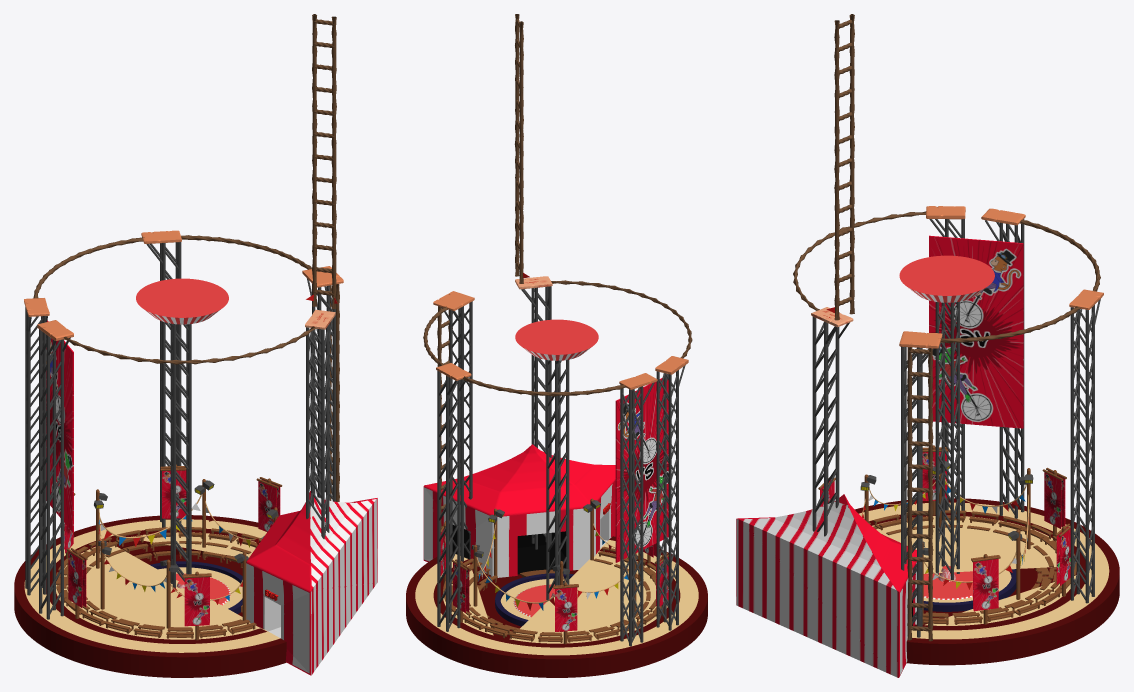
File: Nivel2.fbx
The picture shows the model from 3 angles, left to right: view 1: azimuth 30°, elevation 25°; view 2: azimuth 150°, elevation 25°; view 3: azimuth 270°, elevation 25°; orthographic projection. The views are drawn at different scales.
Visible parts, largest first — view 1: Suelo, CarpaLowPolly, Cylinder.027, Cylinder.022, Cylinder.029, Cuerda.001, Cylinder.025, Cylinder.026, Plane.001, Cylinder.024, Cylinder.023, FIla3 (+12 smaller); view 2: Suelo, CarpaLowPolly, Plane.001, Cylinder.025, Cylinder.027, Cylinder.024, Cylinder.022, Cylinder.023, Cylinder.026, Cuerda.001, Tarima, Cylinder.029 (+9 smaller); view 3: CarpaLowPolly, Suelo, Plane.001, Cylinder.024, Cylinder.022, Cylinder.029, Cuerda.008, Cuerda.001, Cylinder.026, Cylinder.023, Cylinder.025, Tarima (+10 smaller).
Boxes of the visible parts, bbox=[...] form: Suelo: bbox=[14, 515, 286, 677]; CarpaLowPolly: bbox=[246, 491, 377, 675]; Cylinder.027: bbox=[39, 329, 70, 619]; Cylinder.022: bbox=[170, 323, 191, 588]; Cylinder.029: bbox=[306, 319, 332, 539]; Cuerda.001: bbox=[312, 14, 336, 309]; Cylinder.025: bbox=[25, 307, 47, 595]; Cylinder.026: bbox=[136, 278, 228, 324]; Plane.001: bbox=[46, 320, 73, 532]; Cylinder.024: bbox=[146, 242, 181, 527]; Cylinder.023: bbox=[307, 278, 335, 501]; FIla3: bbox=[59, 532, 257, 637]; Suelo: bbox=[406, 536, 707, 677]; CarpaLowPolly: bbox=[423, 444, 615, 577]; Plane.001: bbox=[615, 378, 668, 562]; Cylinder.025: bbox=[620, 382, 654, 646]; Cylinder.027: bbox=[656, 365, 685, 630]; Cylinder.024: bbox=[437, 371, 468, 631]; Cylinder.022: bbox=[546, 359, 569, 600]; Cylinder.023: bbox=[441, 301, 472, 561]; Cylinder.026: bbox=[515, 319, 598, 360]; Cuerda.001: bbox=[514, 14, 523, 283]; Tarima: bbox=[495, 573, 573, 626]; Cylinder.029: bbox=[521, 286, 551, 549]; CarpaLowPolly: bbox=[736, 494, 916, 677]; Suelo: bbox=[855, 498, 1119, 665]; Plane.001: bbox=[929, 235, 1023, 428]; Cylinder.024: bbox=[1070, 299, 1100, 603]; Cylinder.022: bbox=[935, 301, 959, 580]; Cylinder.029: bbox=[812, 316, 849, 536]; Cuerda.008: bbox=[907, 347, 933, 641]; Cuerda.001: bbox=[834, 14, 854, 320]; Cylinder.026: bbox=[899, 255, 994, 302]; Cylinder.023: bbox=[901, 346, 933, 637]; Cylinder.025: bbox=[985, 219, 1024, 518]; Tarima: bbox=[923, 569, 1016, 611].
Bounding box in the file's own units: 11591 × 21101 × 11824.
Materials: 16 (5 with a texture image).
